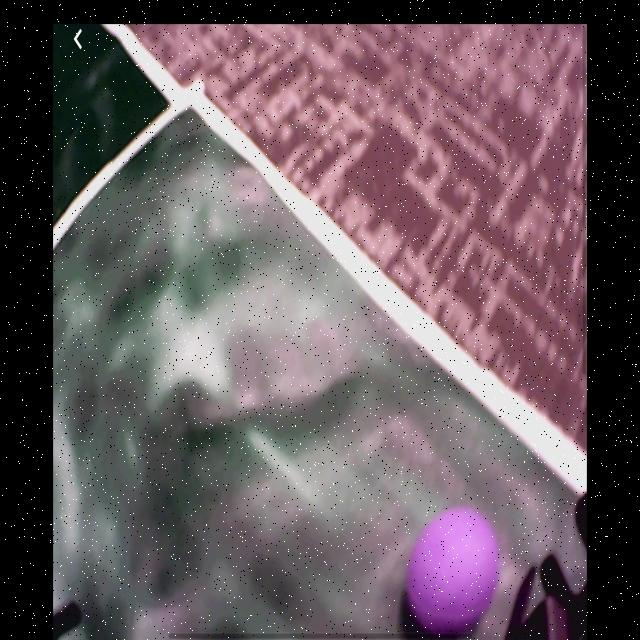ball: (408, 507, 498, 635)
